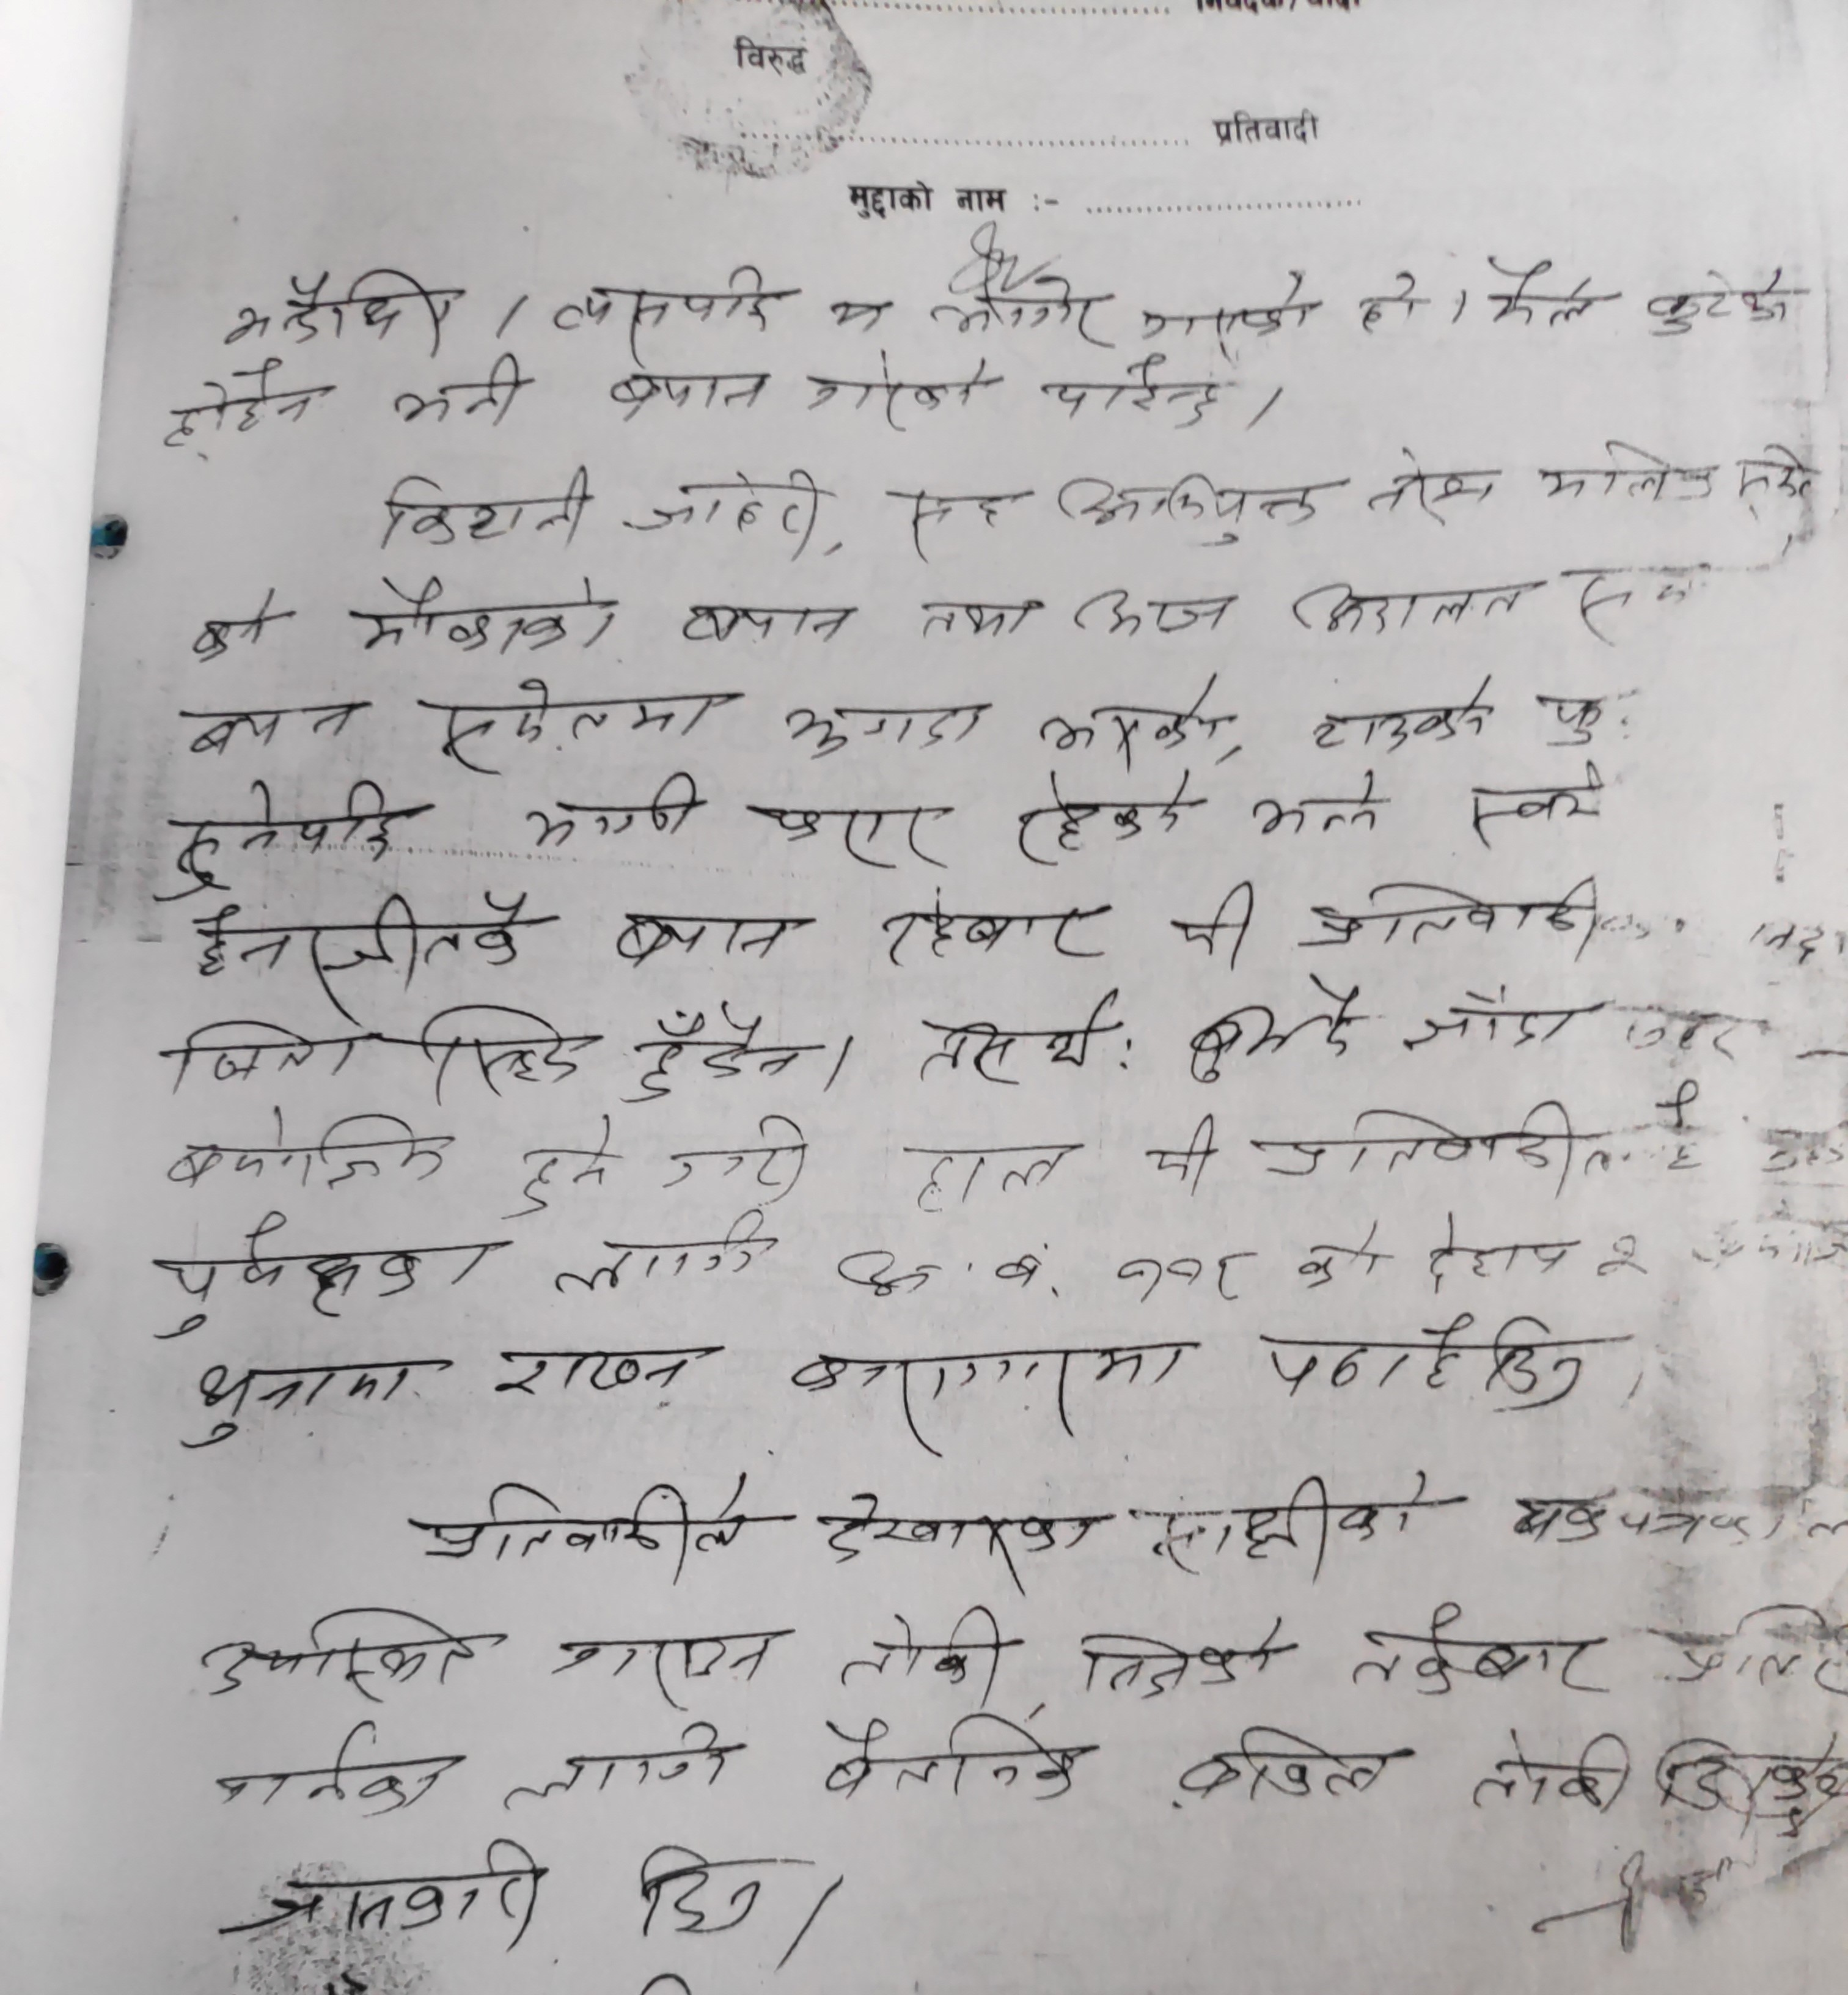text: (146, 1204, 488, 1338), (787, 1336, 1183, 1442), (1152, 1465, 1435, 1609), (1247, 1309, 1607, 1420), (410, 1467, 749, 1583), (219, 1837, 547, 1955), (181, 890, 544, 989), (809, 1486, 1099, 1602), (841, 1236, 1245, 1316), (1268, 1102, 1593, 1196), (195, 1606, 486, 1705), (424, 669, 719, 766), (163, 775, 406, 893), (163, 1104, 457, 1201), (815, 1710, 1096, 1809), (1341, 1604, 1605, 1708), (347, 567, 625, 664), (208, 1710, 452, 1819), (1294, 876, 1598, 956), (186, 1352, 420, 1453), (1053, 467, 1332, 547), (492, 1717, 733, 1809), (552, 1204, 769, 1305), (1176, 971, 1360, 1088), (540, 254, 775, 344), (881, 890, 1119, 977), (370, 461, 594, 551), (1176, 1719, 1395, 1811), (1011, 763, 1200, 869), (1068, 1609, 1282, 1703), (217, 268, 457, 351), (830, 1604, 1018, 1710), (629, 999, 811, 1107), (420, 996, 591, 1109), (1030, 673, 1233, 766), (919, 996, 1103, 1098), (630, 455, 827, 547), (165, 1010, 373, 1093), (1287, 577, 1528, 648), (775, 688, 988, 768), (521, 766, 702, 858), (802, 351, 995, 436), (1136, 259, 1323, 346), (1464, 1726, 1638, 1819), (549, 1630, 769, 1703), (1391, 984, 1598, 1060), (1308, 676, 1501, 758), (629, 1839, 768, 1946), (657, 1110, 820, 1201), (924, 271, 1108, 351), (1416, 1210, 1579, 1298), (174, 690, 366, 765), (1046, 351, 1221, 433), (492, 1342, 702, 1409), (160, 360, 323, 447), (762, 796, 936, 876), (908, 1137, 1080, 1216), (663, 591, 863, 655), (509, 1109, 620, 1222), (1066, 580, 1245, 648), (608, 353, 769, 427), (1360, 441, 1502, 523), (1539, 440, 1714, 506), (611, 905, 783, 971), (391, 353, 528, 431), (1643, 271, 1796, 339), (1459, 773, 1598, 846), (1478, 254, 1605, 332), (1251, 770, 1396, 838), (907, 480, 1011, 565), (1169, 872, 1256, 971), (915, 591, 1042, 652), (1139, 1107, 1221, 1194), (181, 596, 285, 662), (1290, 1220, 1384, 1289), (1353, 266, 1428, 348), (820, 287, 894, 334)
